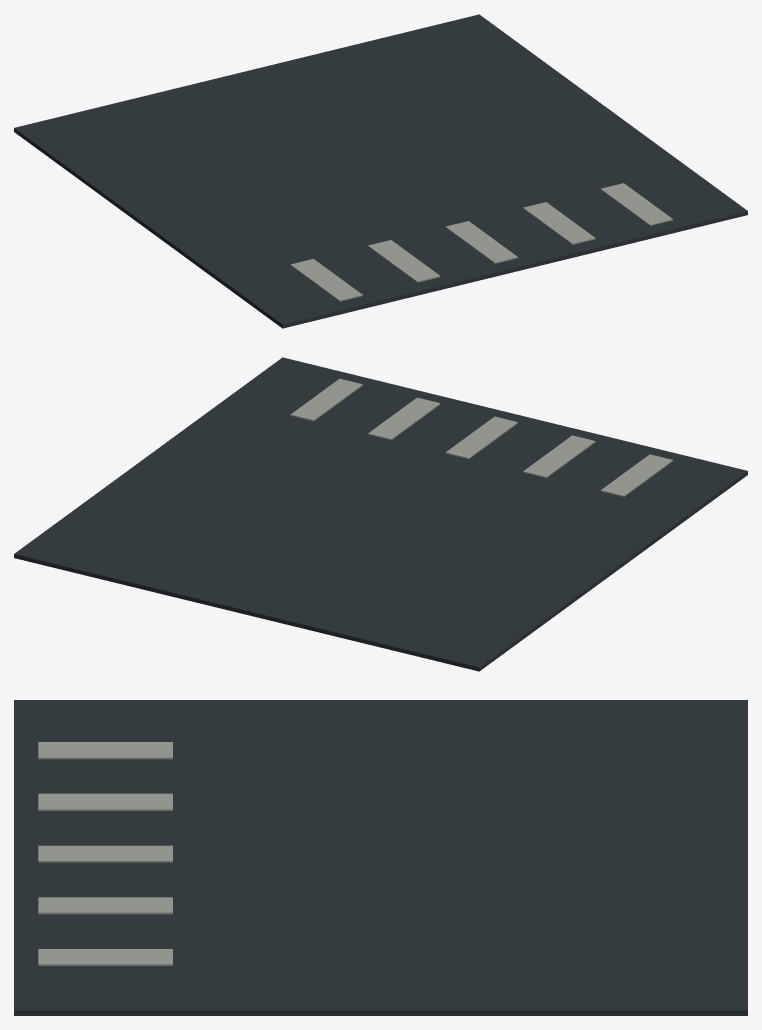
Rendered from intersection.gltf.
3 renders of one model, top to bottom at view 1: azimuth 30°, elevation 25°; view 2: azimuth 150°, elevation 25°; view 3: azimuth 270°, elevation 25°, orthographic. The views are drawn at different scales.
Visible parts, largest first — view 1: intersection; view 2: intersection; view 3: intersection.
Part boxes in pixels (left/top/right/bottom): intersection: left=14, top=14, right=747, bottom=328; intersection: left=14, top=357, right=747, bottom=671; intersection: left=14, top=700, right=747, bottom=1015.
Size of the model in its own units: 12 by 0.135 by 12.
1 material, 1 textured.
